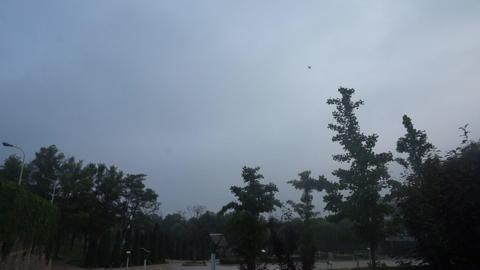UAV: (307, 66, 312, 69)
